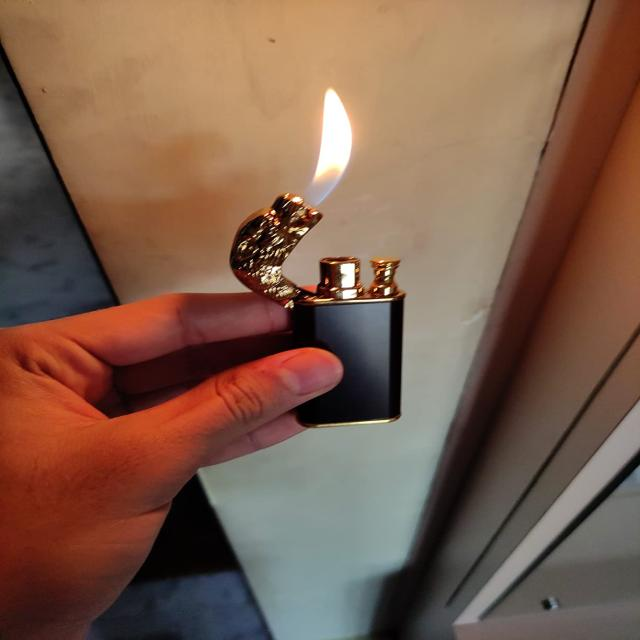fire: (304, 86, 356, 209)
